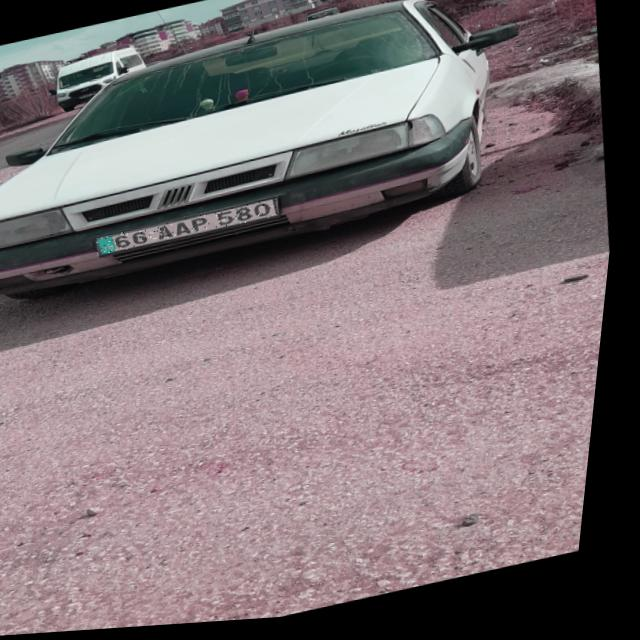plate: (100, 202, 285, 258)
